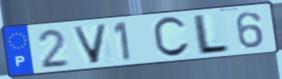1: (112, 20, 133, 63)
2: (36, 28, 71, 70)
6: (233, 10, 266, 50)
C: (151, 15, 193, 60)
L: (193, 13, 232, 57)
V: (70, 23, 110, 66)
